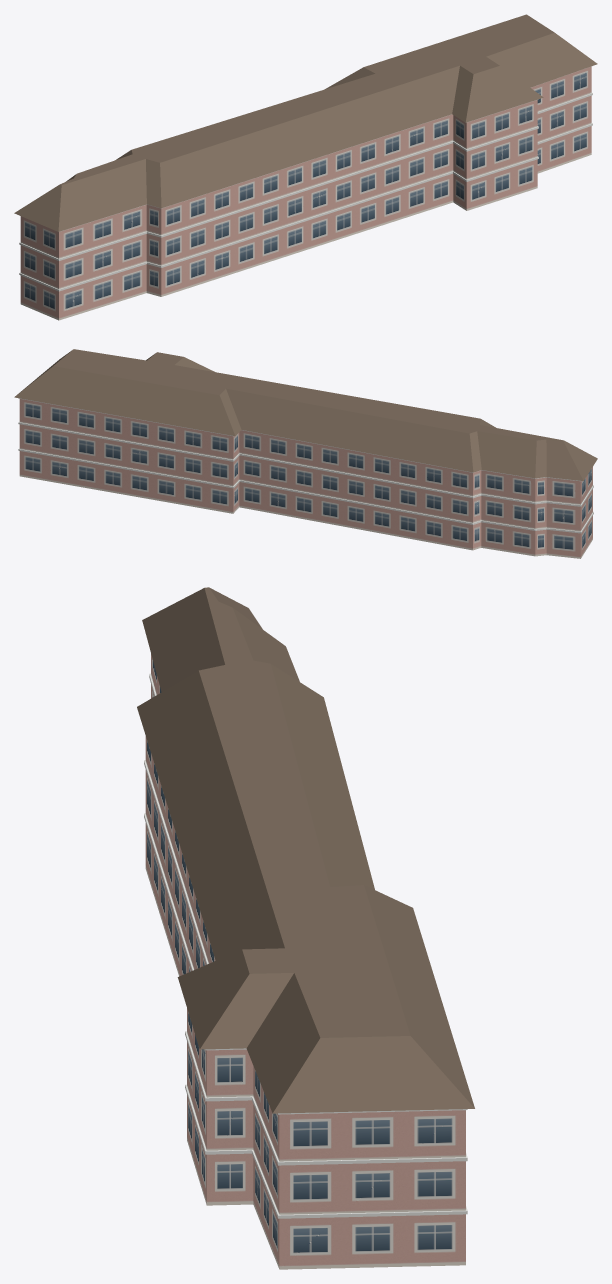
File: kechuang3.glb
3 renders of one model, top to bottom at view 1: azimuth 30°, elevation 25°; view 2: azimuth 150°, elevation 25°; view 3: azimuth 270°, elevation 25°, orthographic. The views are drawn at different scales.
Visible parts, largest first — view 1: 科创3号楼; view 2: 科创3号楼; view 3: 科创3号楼.
Part boxes in pixels (x1,y1,x2,y2): 科创3号楼: [14, 14, 597, 320]; 科创3号楼: [14, 349, 597, 558]; 科创3号楼: [137, 587, 474, 1269].
Bounding box in the file's own units: 73.3 × 14.2 × 20.74.
Materials: 3 (1 with a texture image).
